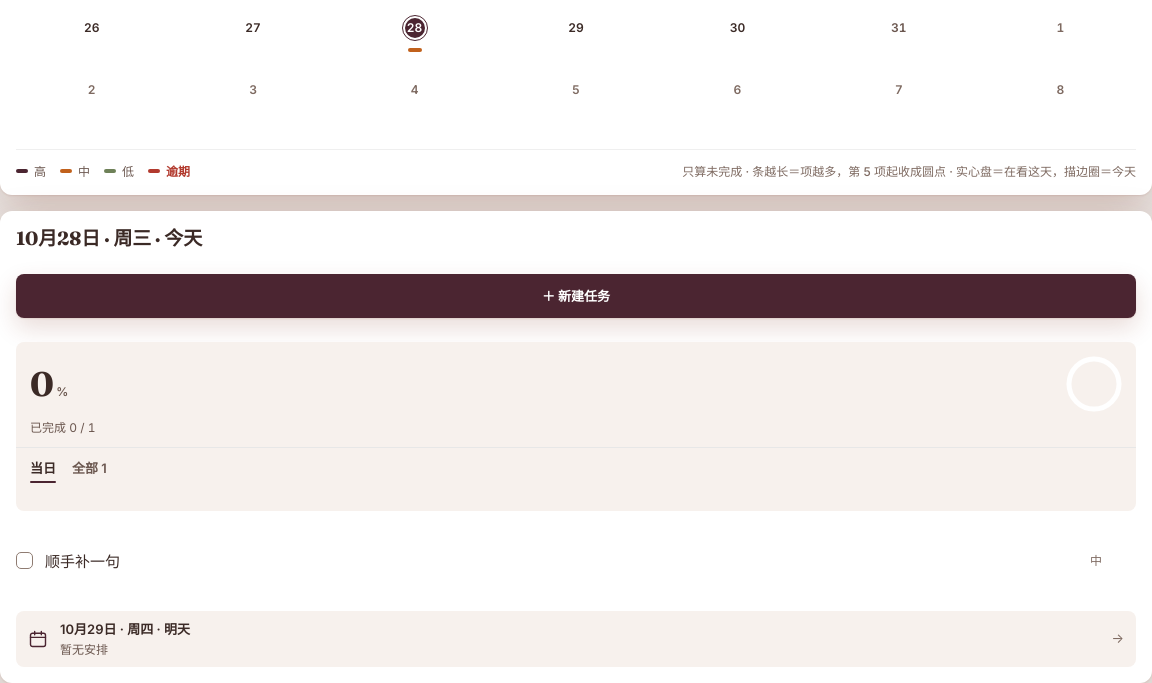
Test: TasksView row editing › a click away files the edit as surely as Enter does
The image size is (1152, 683).
(page scrolled)
Click the button "顺手补一句" at coordinates (83, 562), box [45,550,1075,571]
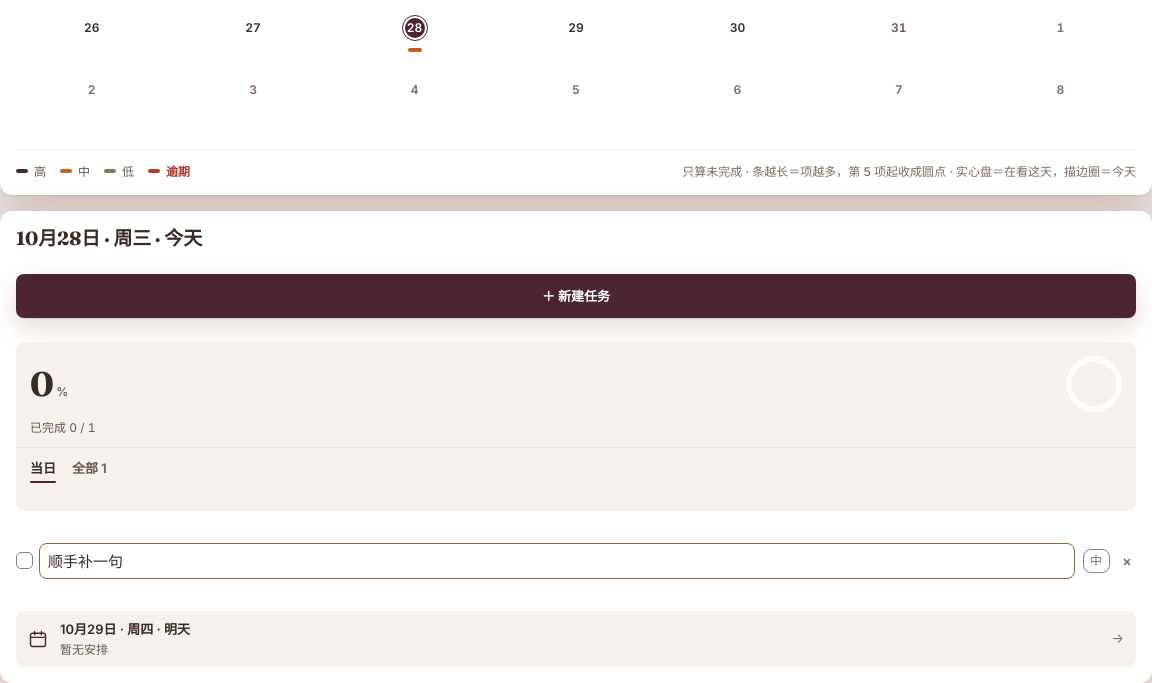
Replace the text in the field named "修改「顺手补一句」" with "补完了" at coordinates (557, 561), box [39,543,1075,579]
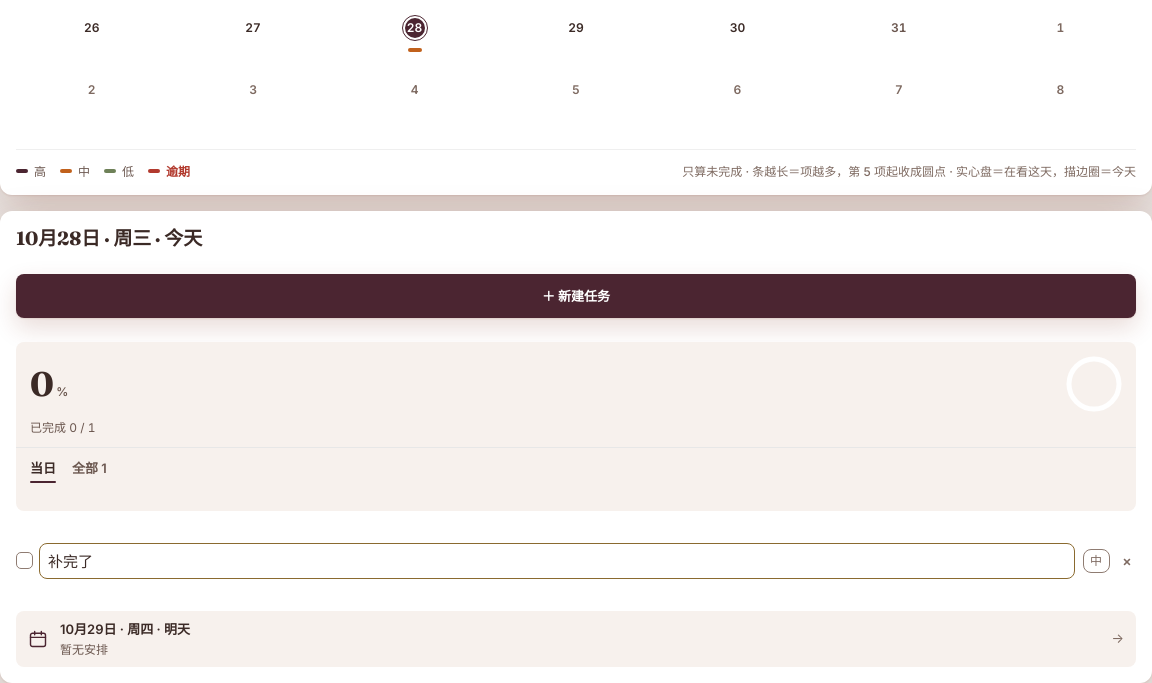
Leave the field named "修改「顺手补一句」", box [39,543,1075,579]
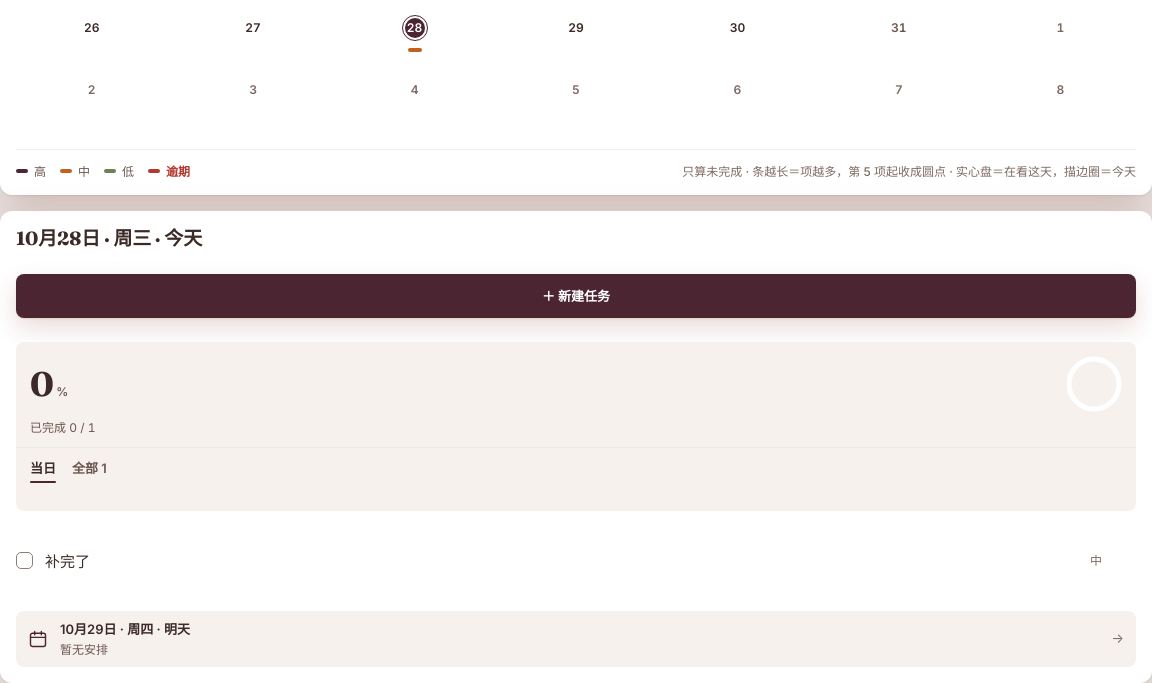
Expected: the button "补完了" is shown, [45,550,1075,571]
